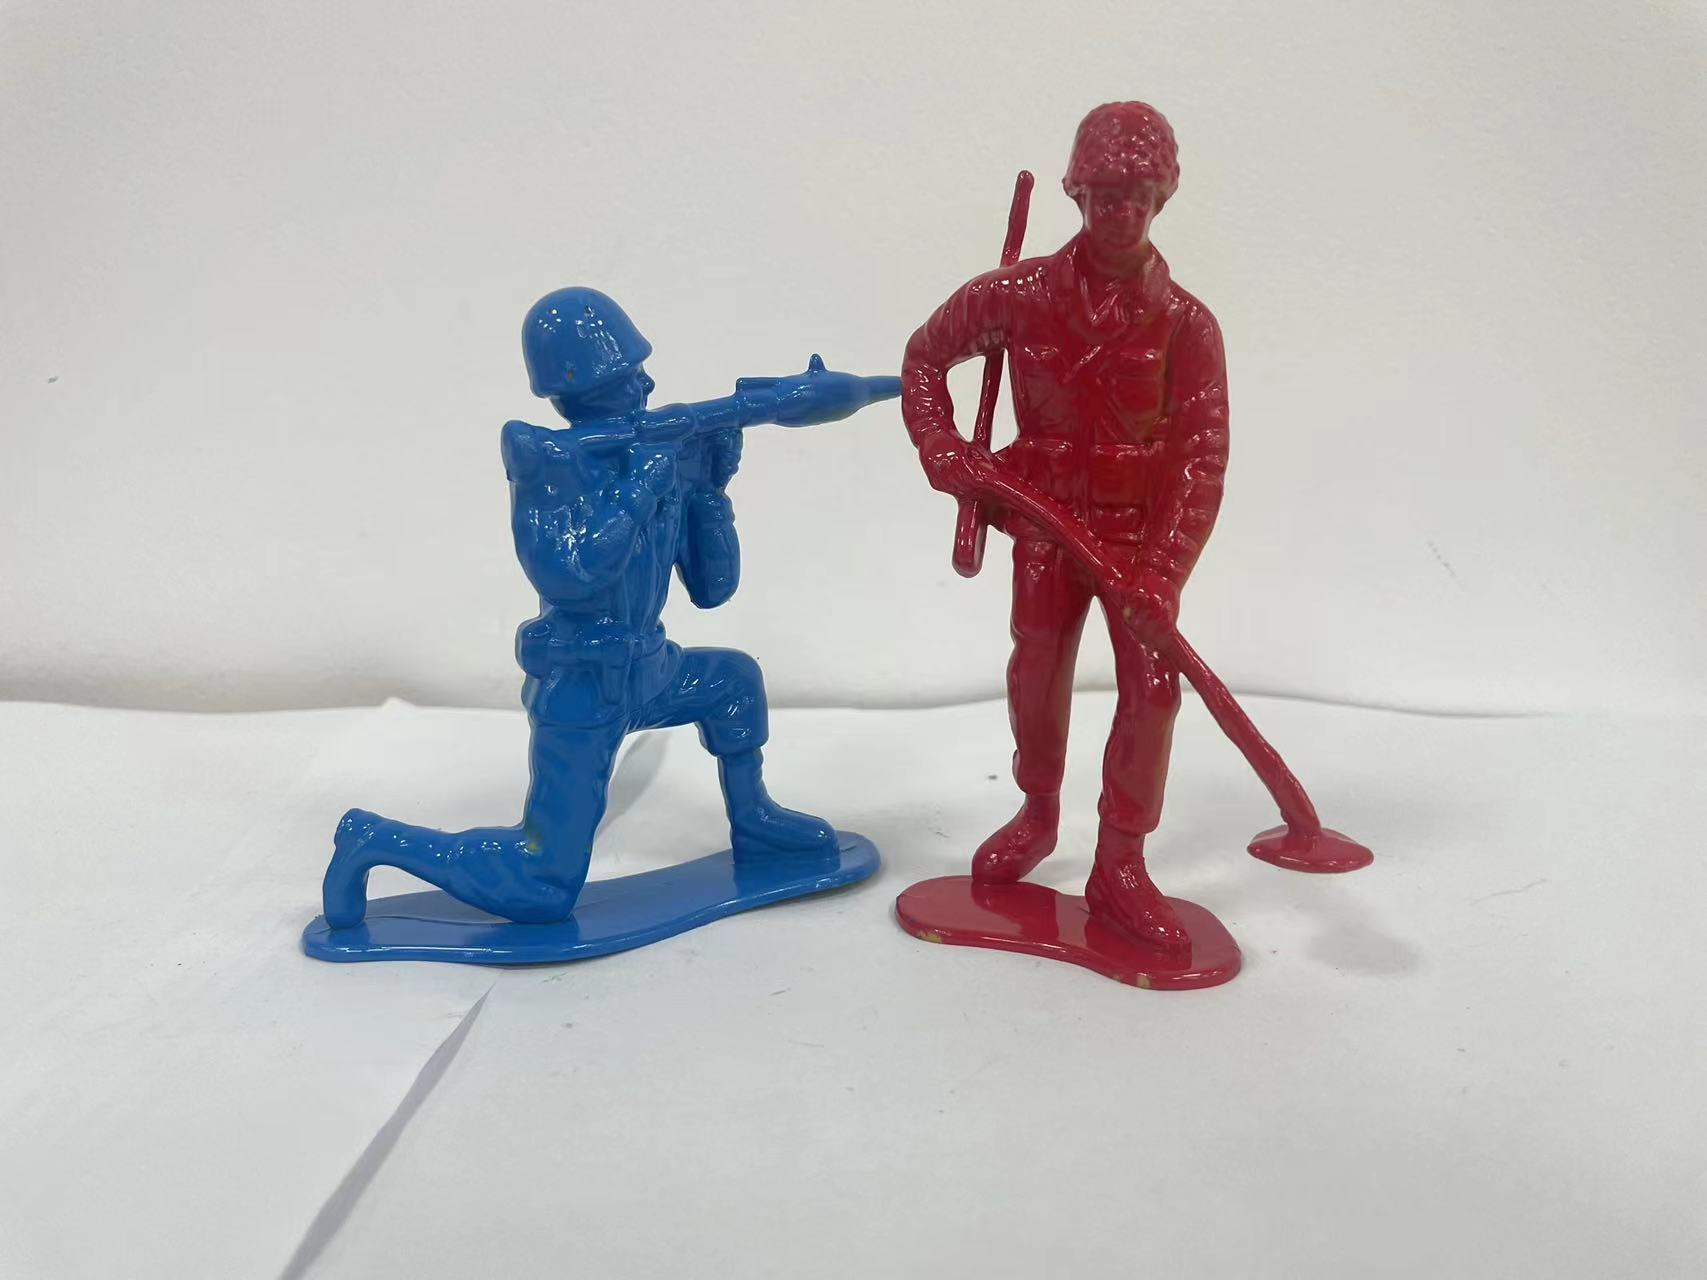blue: (319, 241, 888, 982)
red: (892, 85, 1383, 1050)
